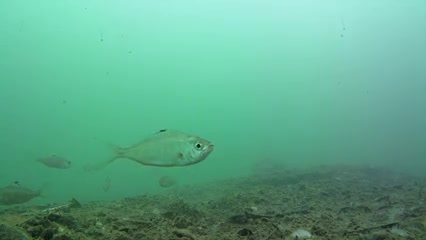smallfish: (110, 121, 217, 175), (32, 155, 75, 174)
